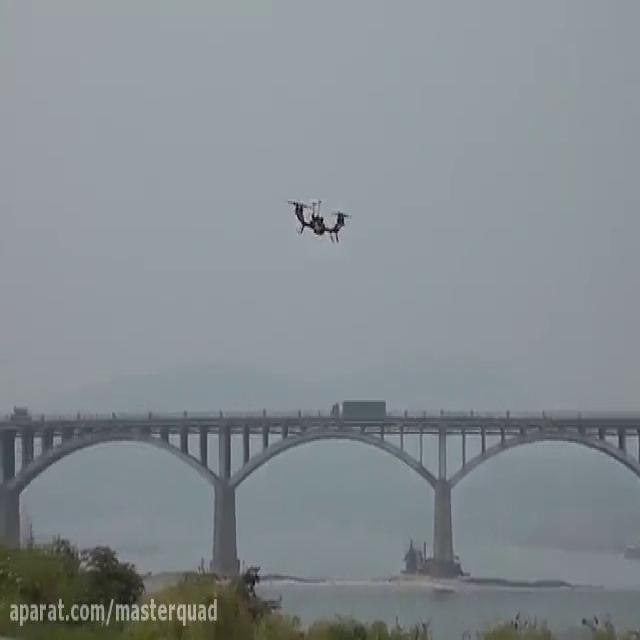drone: (282, 192, 354, 246)
